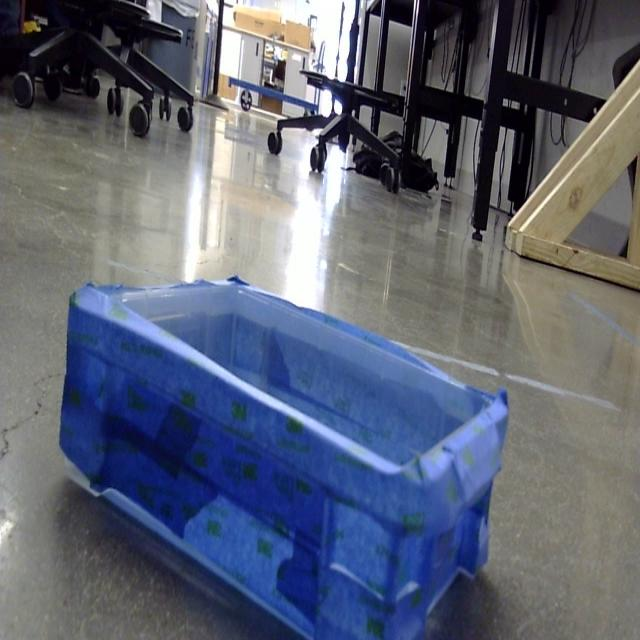bucket: (58, 279, 510, 640)
